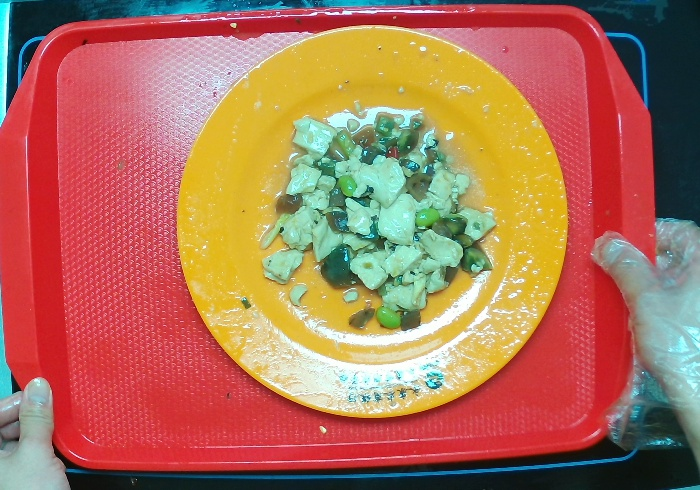YKMZ-Ju_Se_Mian_Pan: (175, 24, 571, 421)
